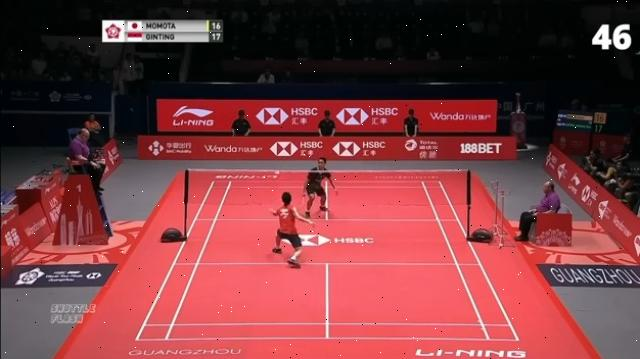Shuttlecock: (274, 168, 282, 176)
